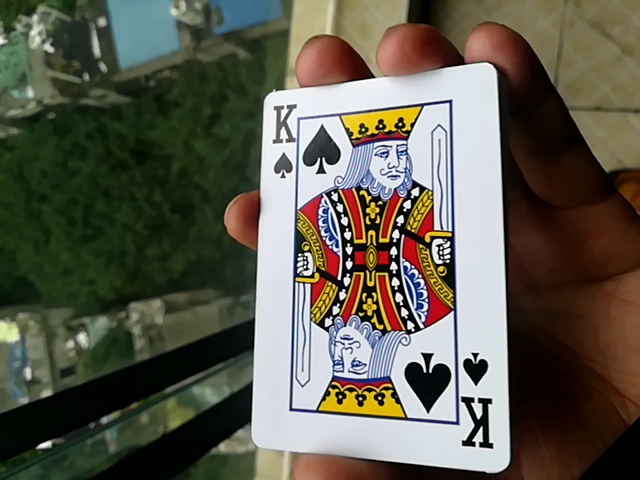ht k: (246, 72, 505, 473)
